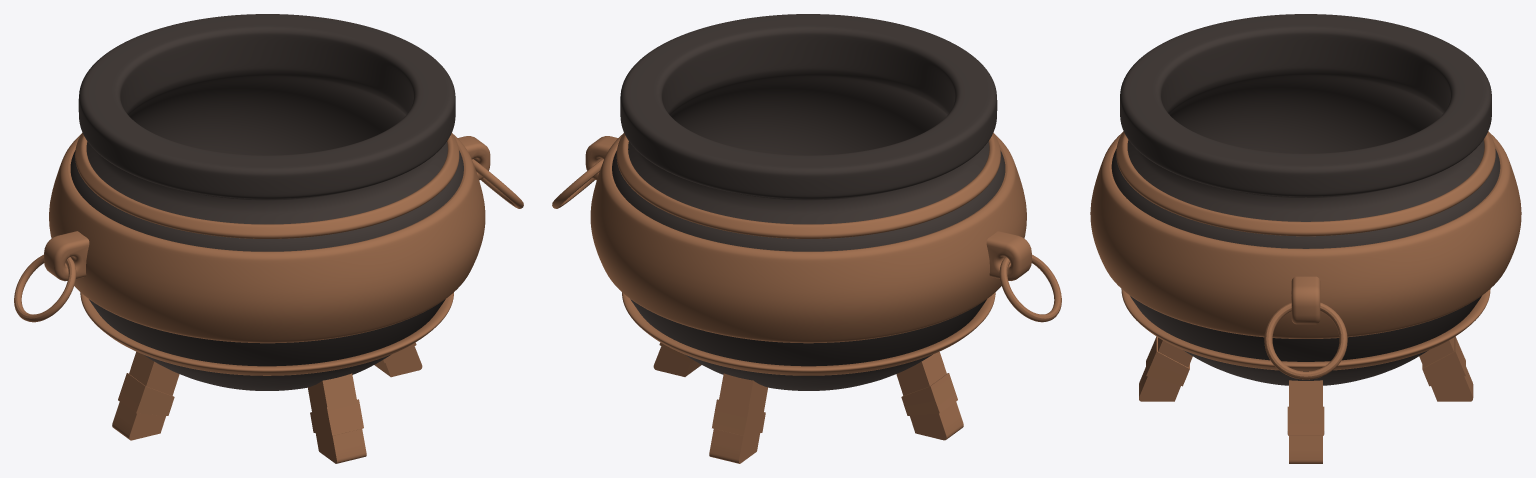
Rendered from cauldron.fbx.
The picture shows the model from 3 angles, left to right: view 1: azimuth 30°, elevation 25°; view 2: azimuth 150°, elevation 25°; view 3: azimuth 270°, elevation 25°; orthographic projection.
Visible parts, largest first — view 1: Cauldron_Sphere.005; view 2: Cauldron_Sphere.005; view 3: Cauldron_Sphere.005.
Boxes of the visible parts, x1,y1,x2,y2 form: Cauldron_Sphere.005: (14, 14, 523, 463); Cauldron_Sphere.005: (552, 14, 1061, 463); Cauldron_Sphere.005: (1090, 14, 1521, 463).
Size of the model in its own units: 273 by 162 by 208.
